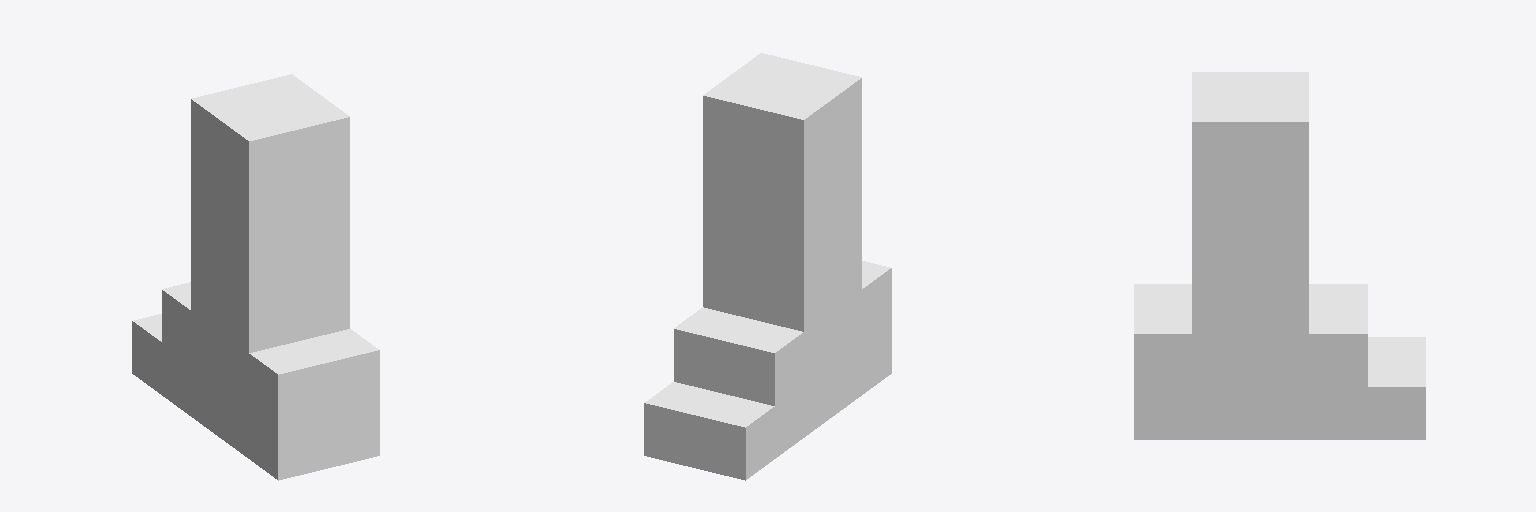
Rendered from ankle.obj.
3 renders of one model, left to right at view 1: azimuth 30°, elevation 25°; view 2: azimuth 150°, elevation 25°; view 3: azimuth 270°, elevation 25°, orthographic.
Visible parts, largest first — view 1: object 1; view 2: object 1; view 3: object 1.
Boxes of the visible parts, x1=… form: object 1: x1=132, y1=74, x2=379, y2=480; object 1: x1=644, y1=53, x2=891, y2=480; object 1: x1=1134, y1=72, x2=1425, y2=439.
Bounding box in the file's own units: 0.2 × 0.6 × 0.5.